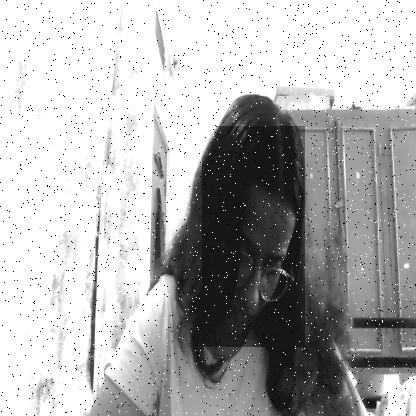Distracted: (202, 126, 305, 347)
